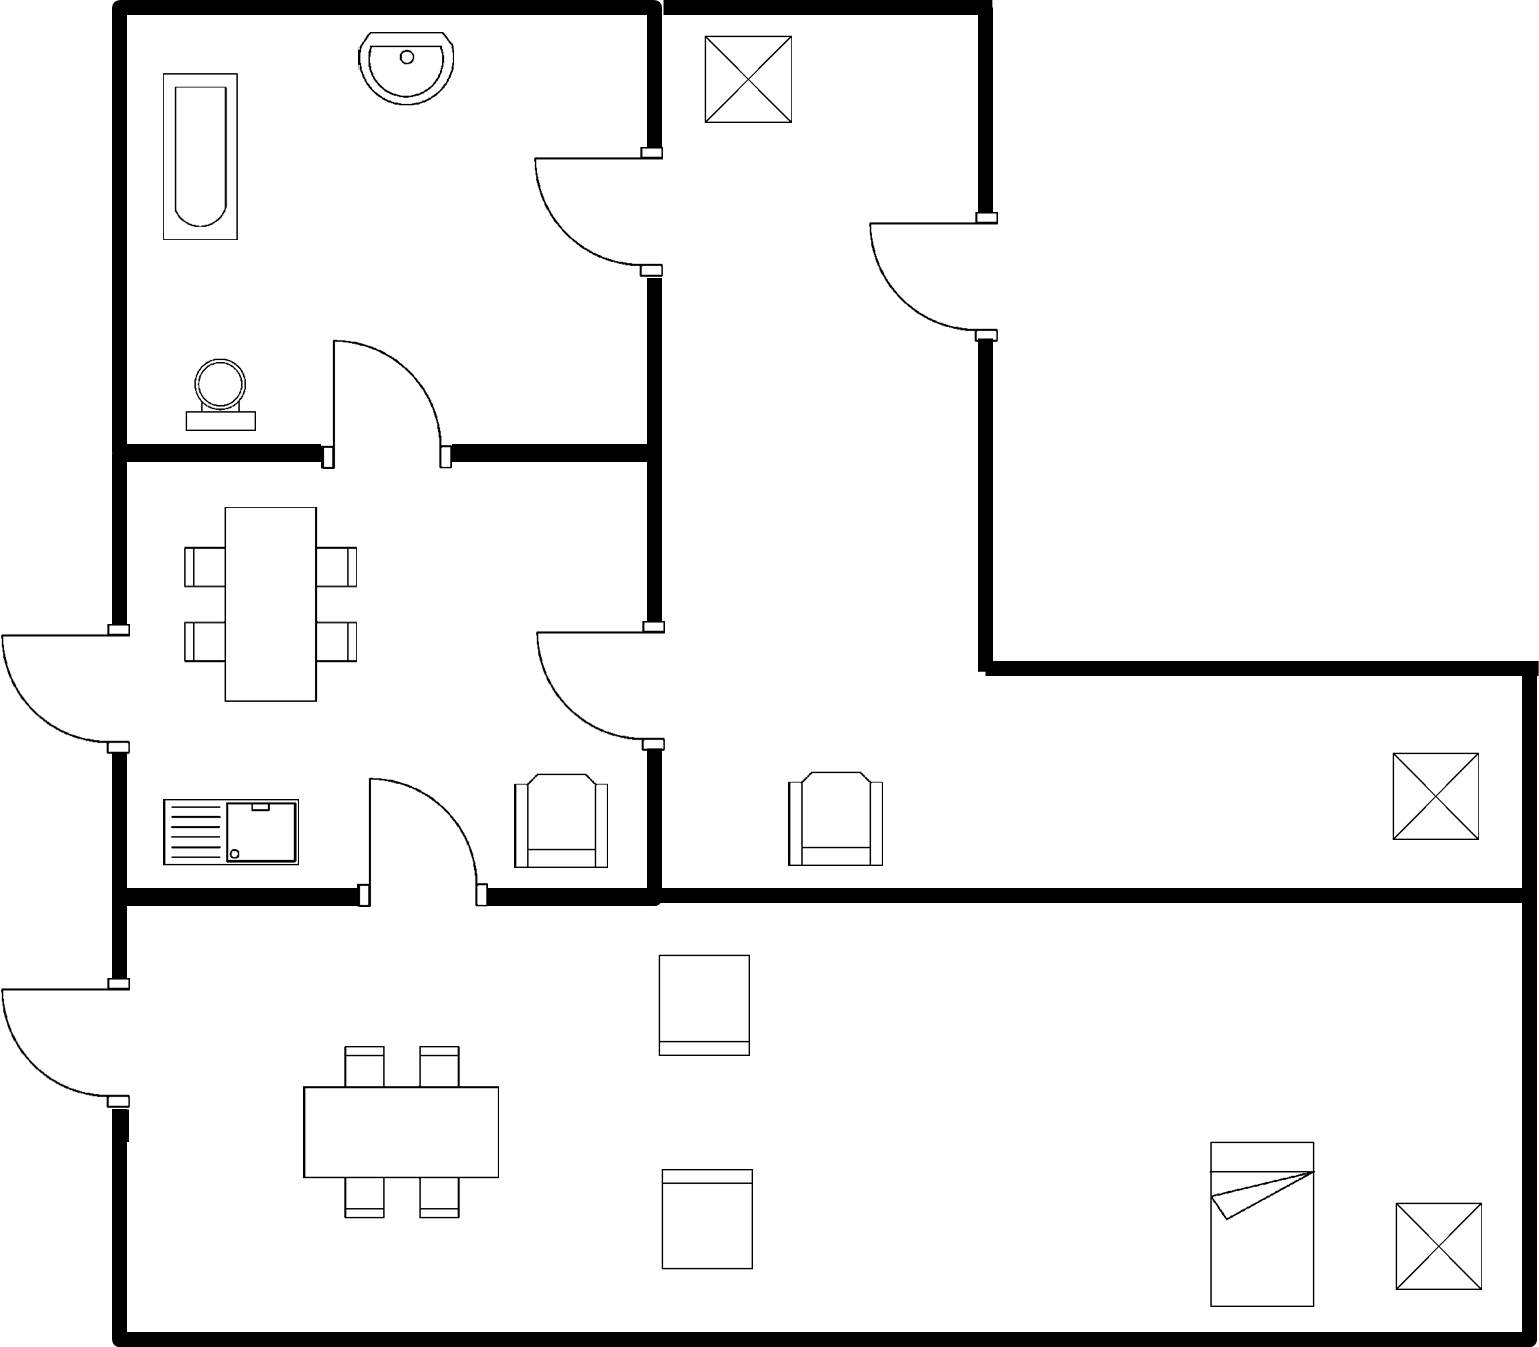armchair: (777, 762, 893, 874), (502, 765, 617, 877)
bed: (1201, 1132, 1328, 1315)
coffee_table: (1380, 741, 1490, 852), (697, 23, 802, 133), (1386, 1194, 1492, 1299)
dining_table: (167, 497, 371, 714), (296, 1036, 511, 1228)
large_sink: (176, 347, 263, 437)
sink: (153, 790, 307, 882)
small_sink: (350, 19, 467, 110)
small_sofa: (647, 1161, 768, 1281), (650, 945, 760, 1070)
tub: (155, 64, 248, 252)
